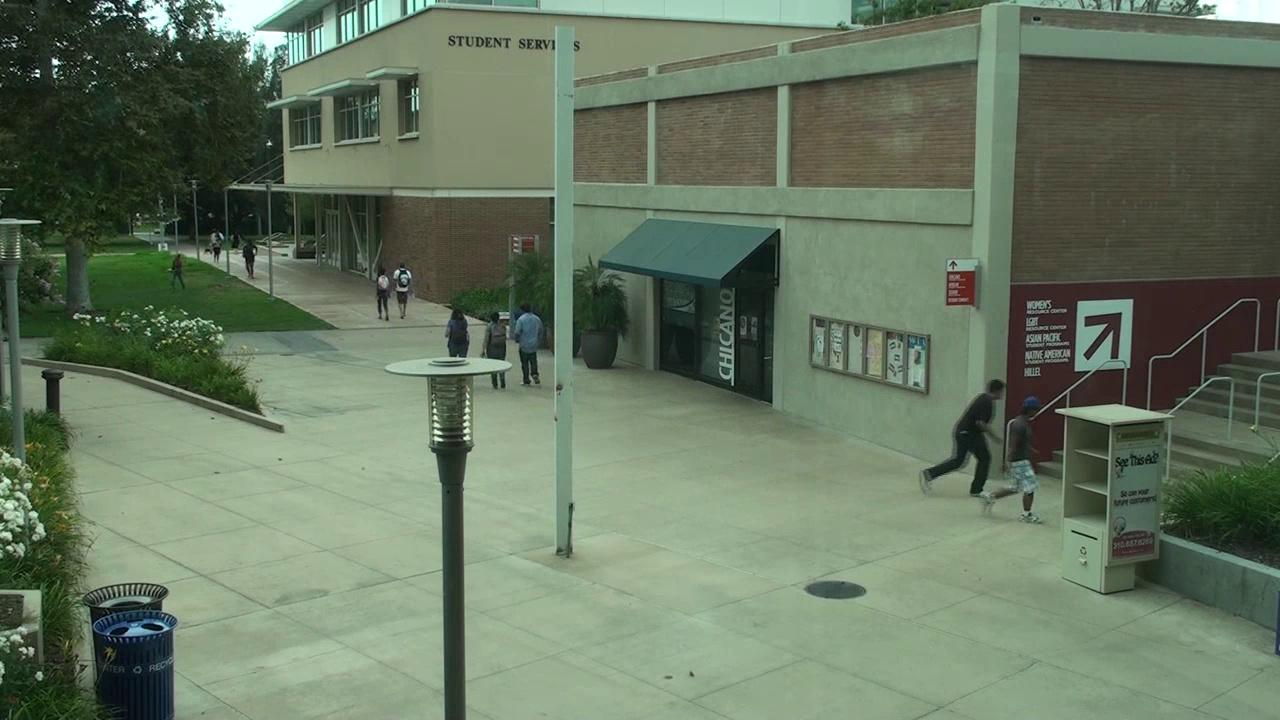person: (920, 381, 1004, 495), (980, 396, 1040, 522), (511, 303, 542, 383), (481, 311, 506, 358), (392, 262, 411, 318), (446, 310, 469, 356), (378, 268, 391, 320), (242, 240, 256, 278), (492, 373, 505, 388)
